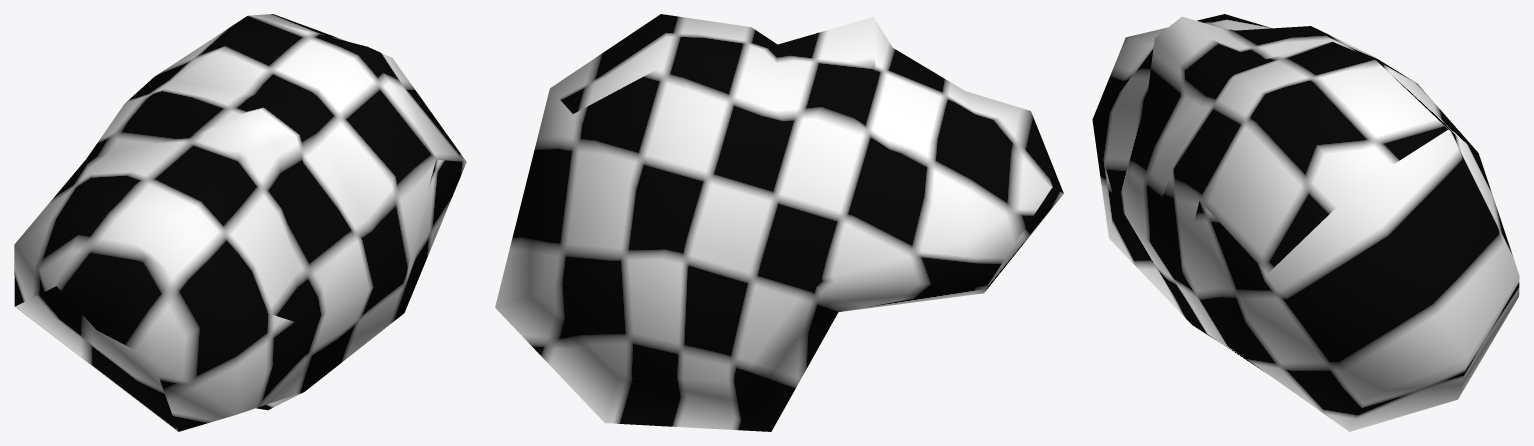
The model's file is initqu77.dae.
3 renders of one model, left to right at view 1: azimuth 30°, elevation 25°; view 2: azimuth 150°, elevation 25°; view 3: azimuth 270°, elevation 25°, orthographic. The views are drawn at different scales.
Visible parts, largest first — view 1: item; view 2: item; view 3: item.
Boxes of the visible parts, x1=… form: item: x1=14, y1=14, x2=466, y2=431; item: x1=495, y1=14, x2=1063, y2=431; item: x1=1092, y1=14, x2=1519, y2=431.
Bounding box in the file's own units: 1.44 × 1.24 × 1.1.
1 material, 1 textured.
